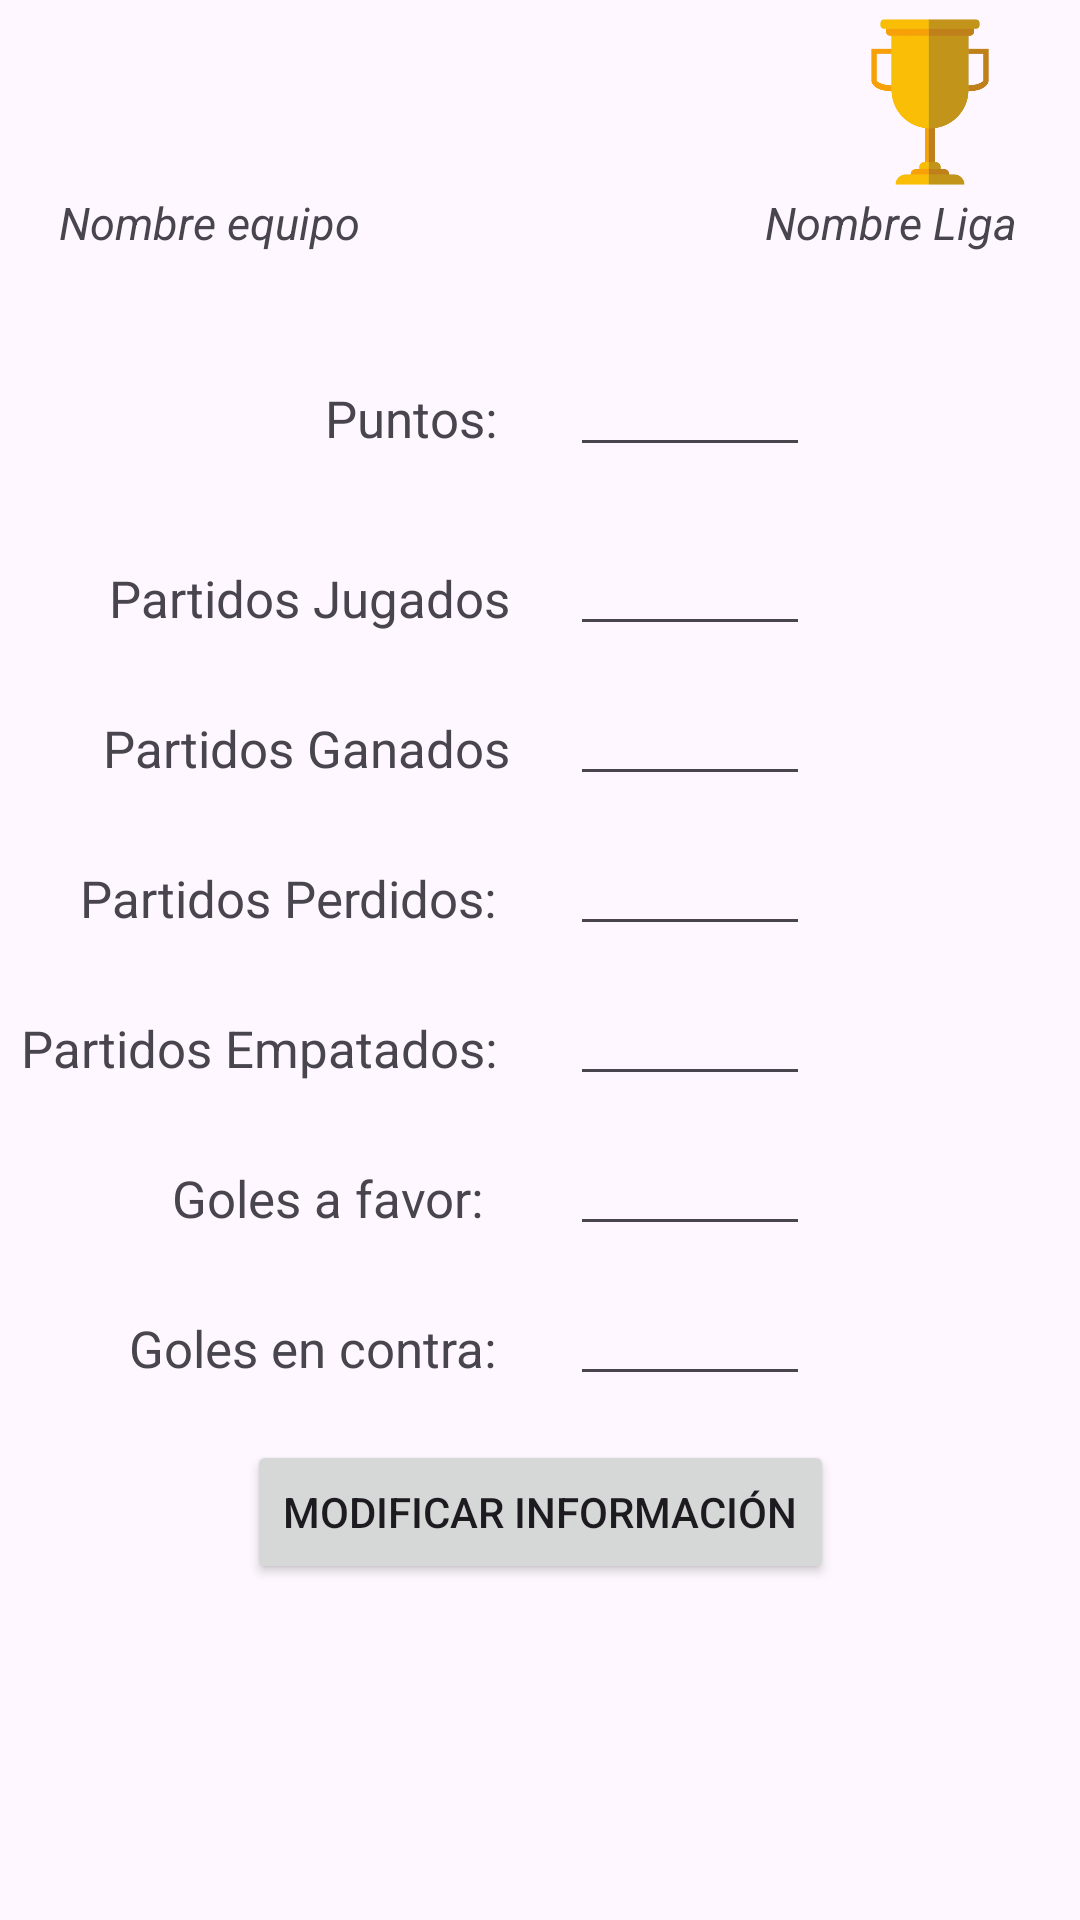

Icons on this 1080 × 1920 Android screen, each with its box as (x1,y1,x2,y2):
copa: (871,19,989,185)
